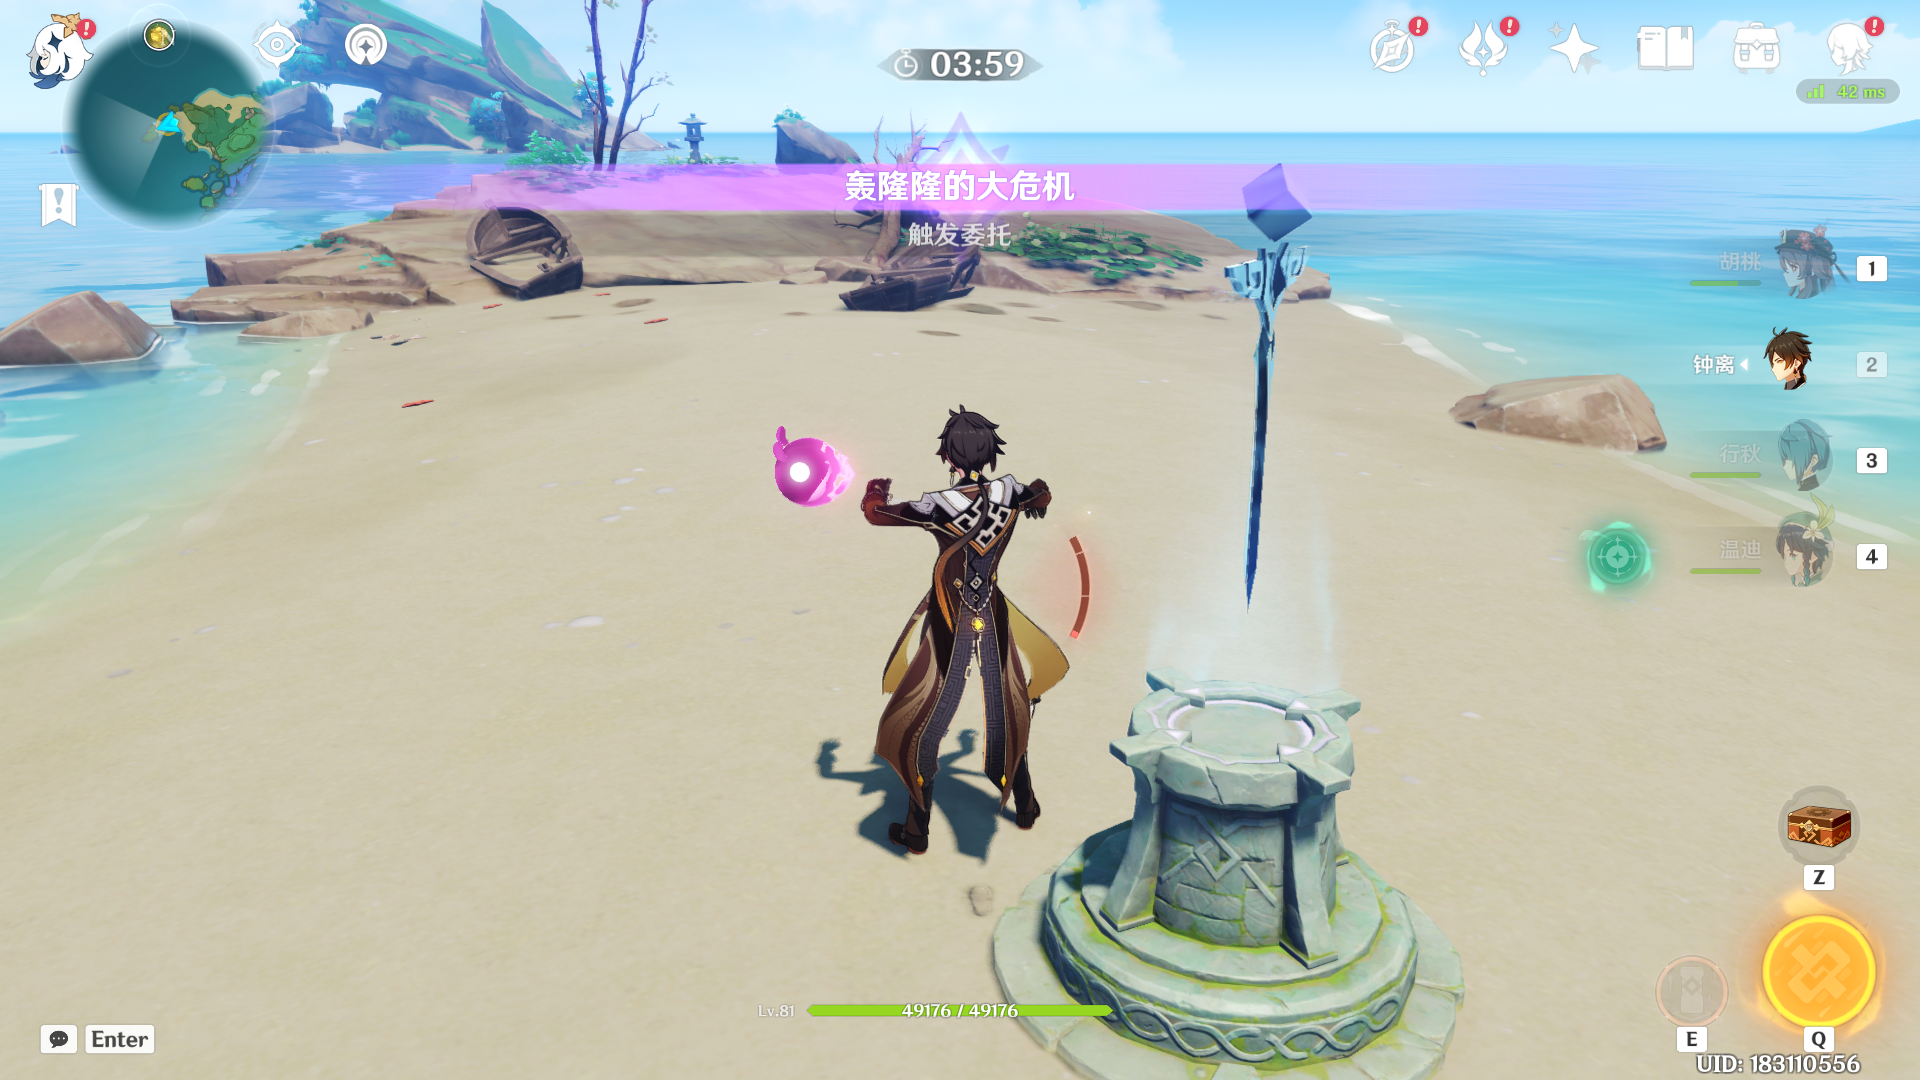character: (836, 373, 1105, 844)
